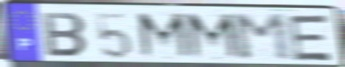5: (94, 11, 135, 60)
B: (41, 11, 90, 59)
E: (286, 13, 336, 63)
M: (229, 12, 296, 62), (134, 11, 195, 62), (183, 12, 244, 63)
